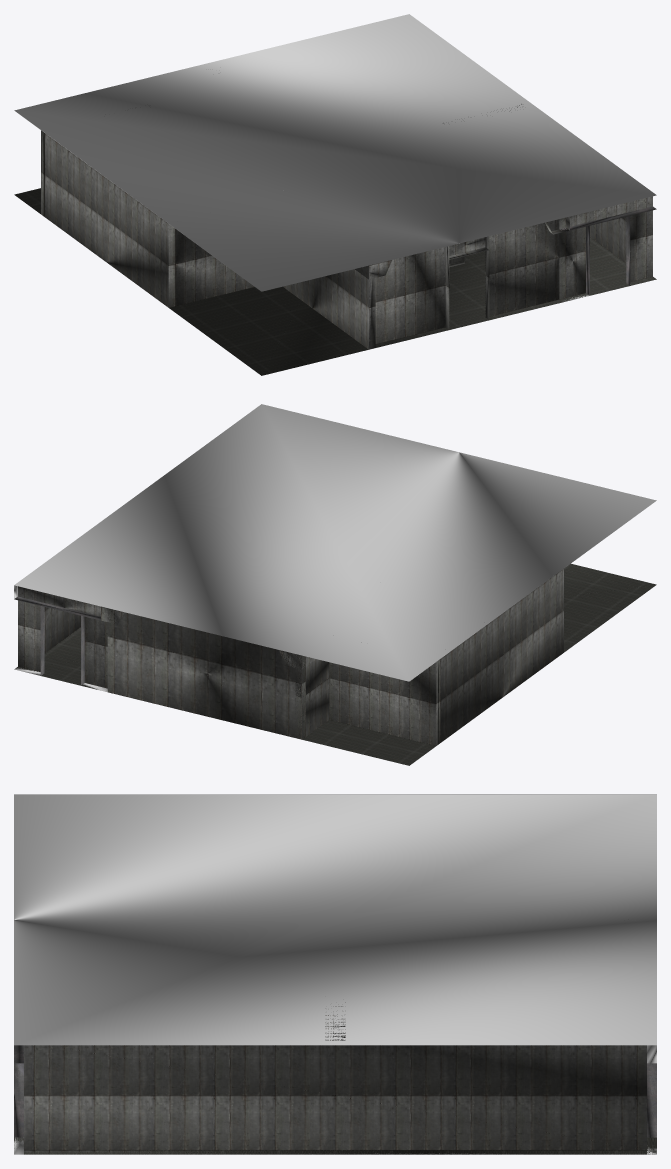
File: room2servers_opt.obj
The picture shows the model from 3 angles, top to bottom: view 1: azimuth 30°, elevation 25°; view 2: azimuth 150°, elevation 25°; view 3: azimuth 270°, elevation 25°; orthographic projection. The views are drawn at different scales.
Bounding box in the file's own units: 94.4 × 19.25 × 102.
